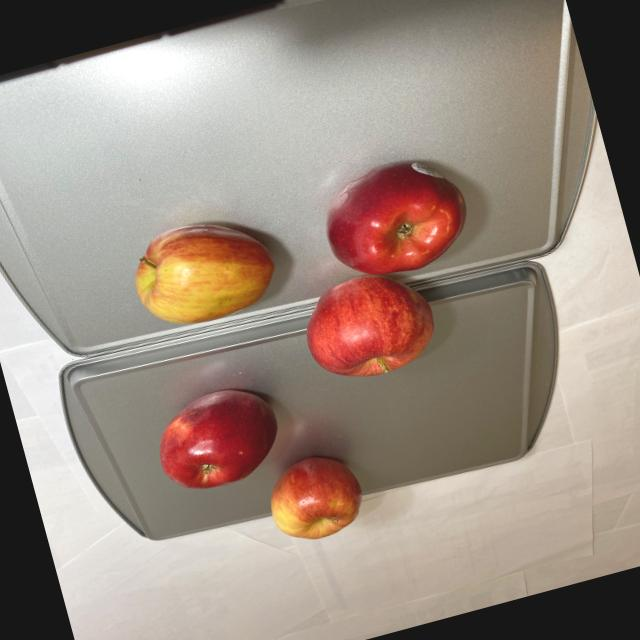apple: (115, 131, 504, 432), (146, 361, 372, 571)
